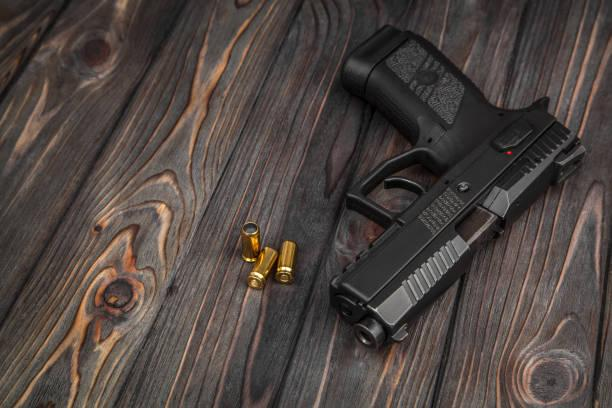weapon: (325, 14, 592, 351)
